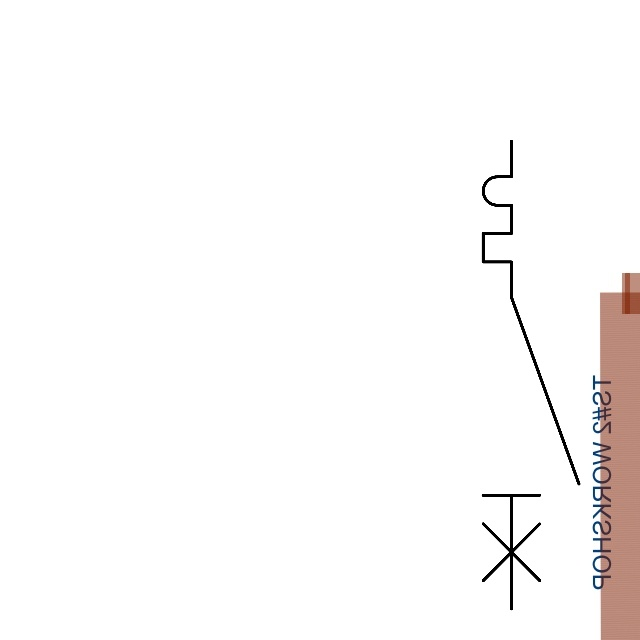interruptor_termomagnetico: (471, 129, 591, 621)
